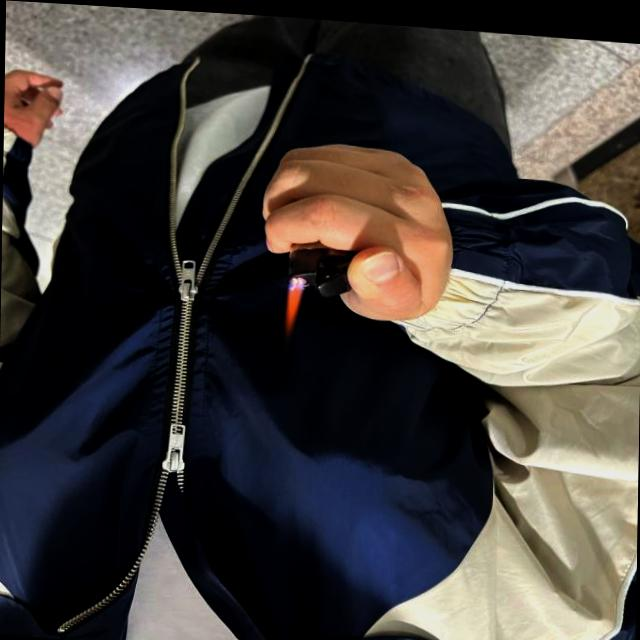helmet: (281, 279, 309, 337)
